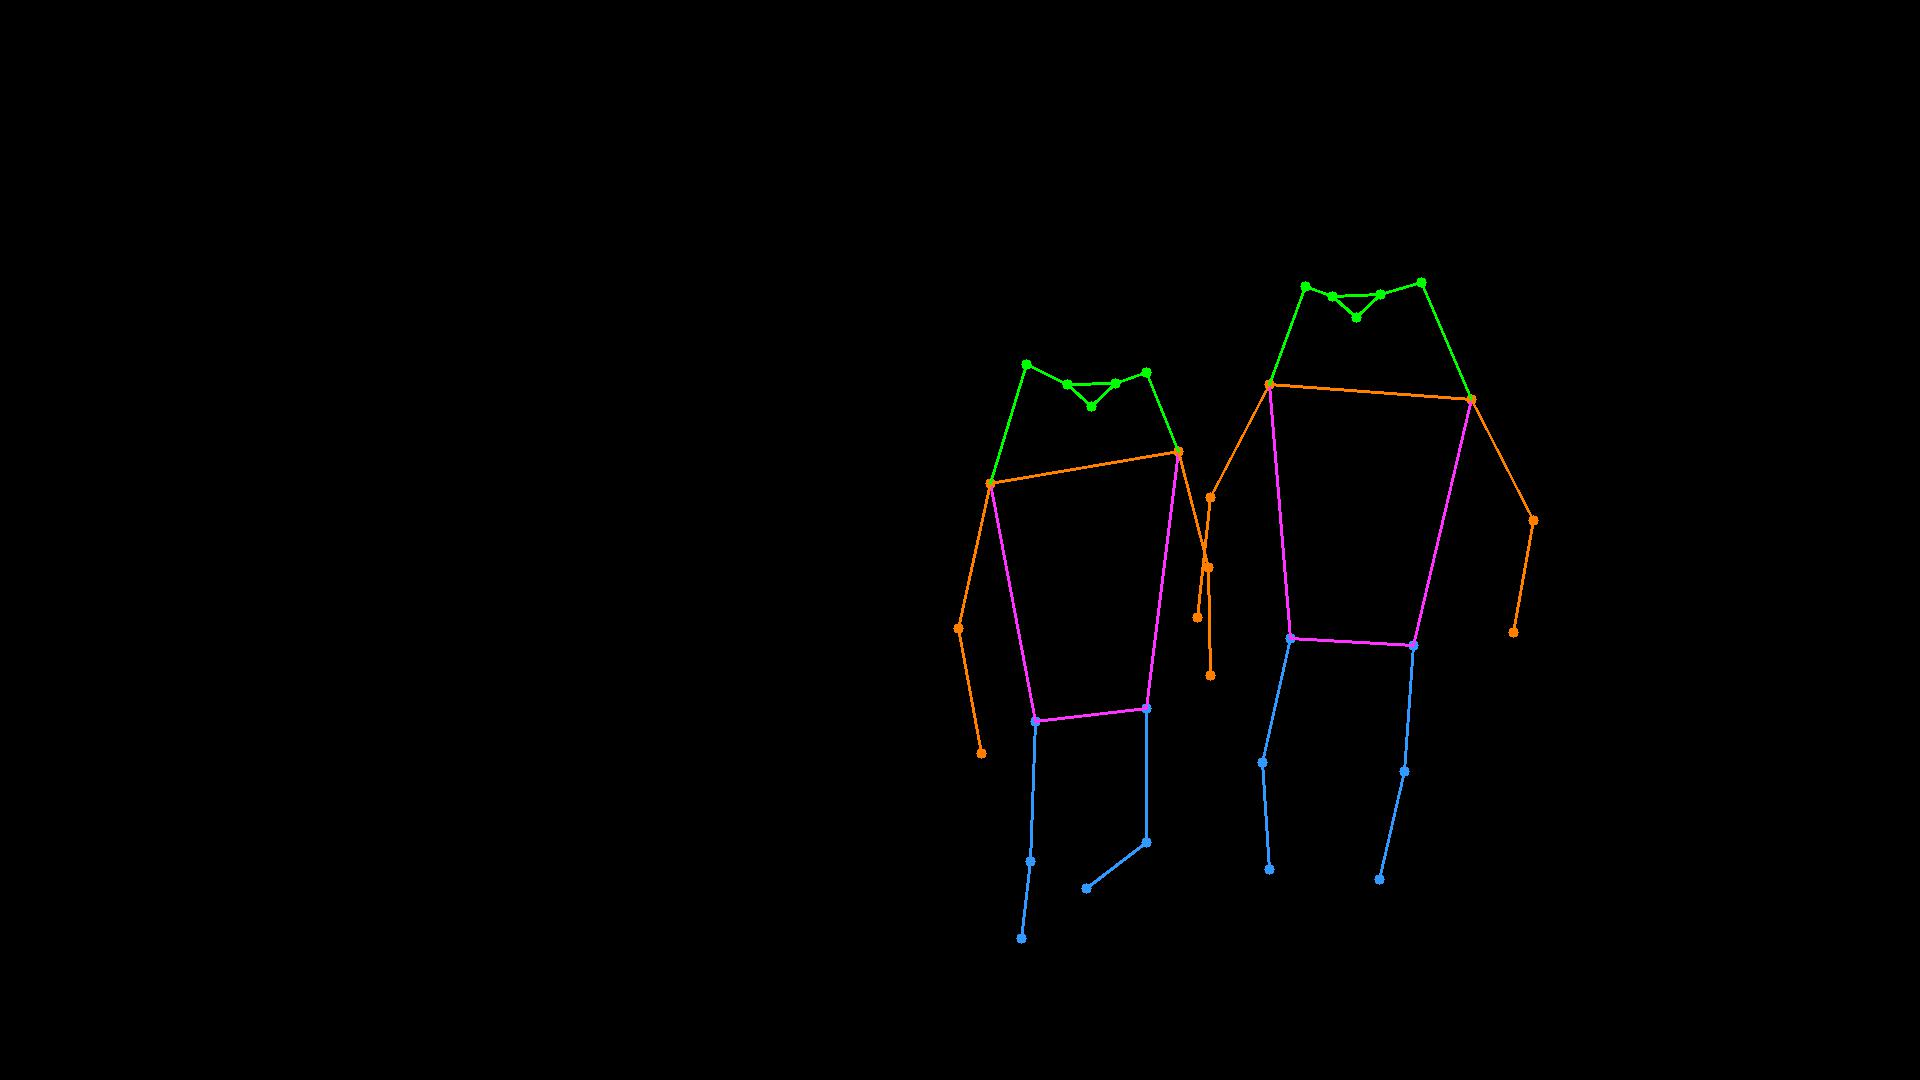normal: (899, 222, 1551, 1031)
